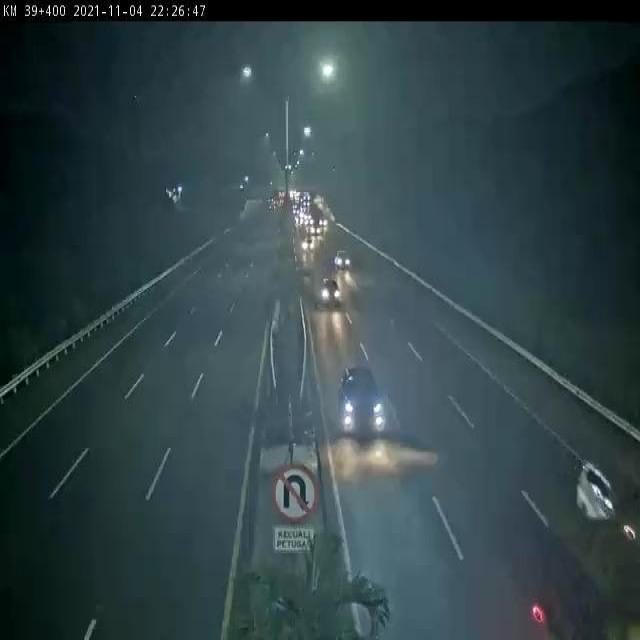car: (337, 359, 387, 437), (319, 270, 343, 310), (333, 246, 351, 274), (299, 234, 316, 258)
